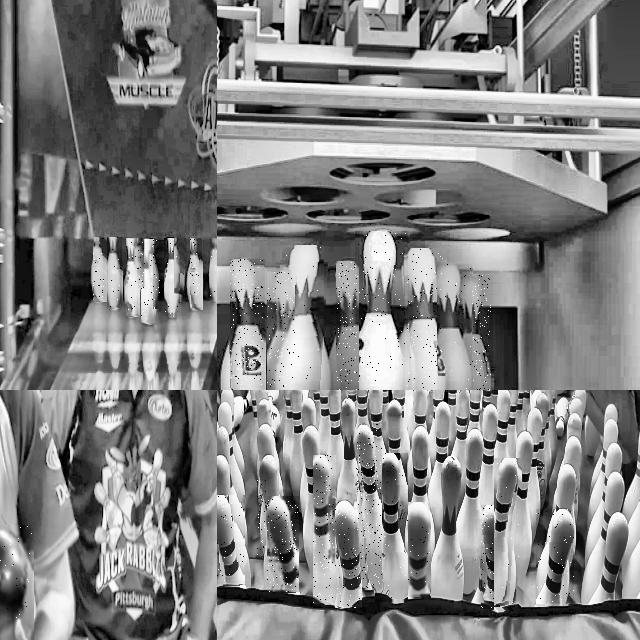bowling-ball: (0, 528, 34, 640)
bowling-pins: (356, 232, 406, 390), (280, 245, 324, 390), (407, 248, 447, 390), (429, 455, 464, 600), (375, 454, 408, 600), (458, 428, 484, 595), (438, 265, 472, 390), (231, 260, 263, 390), (357, 424, 382, 589), (536, 509, 574, 605), (590, 512, 629, 605), (495, 459, 519, 608), (462, 275, 492, 390), (410, 426, 435, 563), (267, 272, 295, 390), (428, 400, 451, 538), (217, 401, 245, 512), (515, 430, 534, 587), (314, 456, 334, 603), (268, 496, 298, 592), (337, 261, 359, 390), (259, 454, 279, 589), (335, 501, 360, 608), (302, 425, 319, 574), (217, 496, 244, 586), (368, 390, 387, 511), (337, 397, 358, 505), (481, 505, 503, 608), (406, 503, 430, 596), (479, 402, 499, 512), (452, 390, 470, 507), (494, 390, 511, 509), (327, 390, 344, 507), (221, 390, 244, 474), (290, 390, 304, 511), (230, 468, 247, 546), (164, 238, 180, 314), (282, 390, 294, 486), (233, 522, 251, 586), (126, 239, 138, 315), (108, 237, 121, 307), (142, 240, 153, 322), (256, 424, 274, 469), (249, 390, 258, 479), (318, 390, 330, 455), (257, 479, 266, 557), (93, 238, 104, 299), (468, 390, 483, 432), (191, 239, 200, 308), (152, 238, 160, 309), (448, 390, 457, 453), (217, 455, 230, 498), (356, 390, 369, 428), (217, 426, 230, 463), (257, 398, 272, 426), (211, 239, 217, 302), (136, 238, 144, 284), (175, 239, 181, 294), (217, 560, 222, 580)
